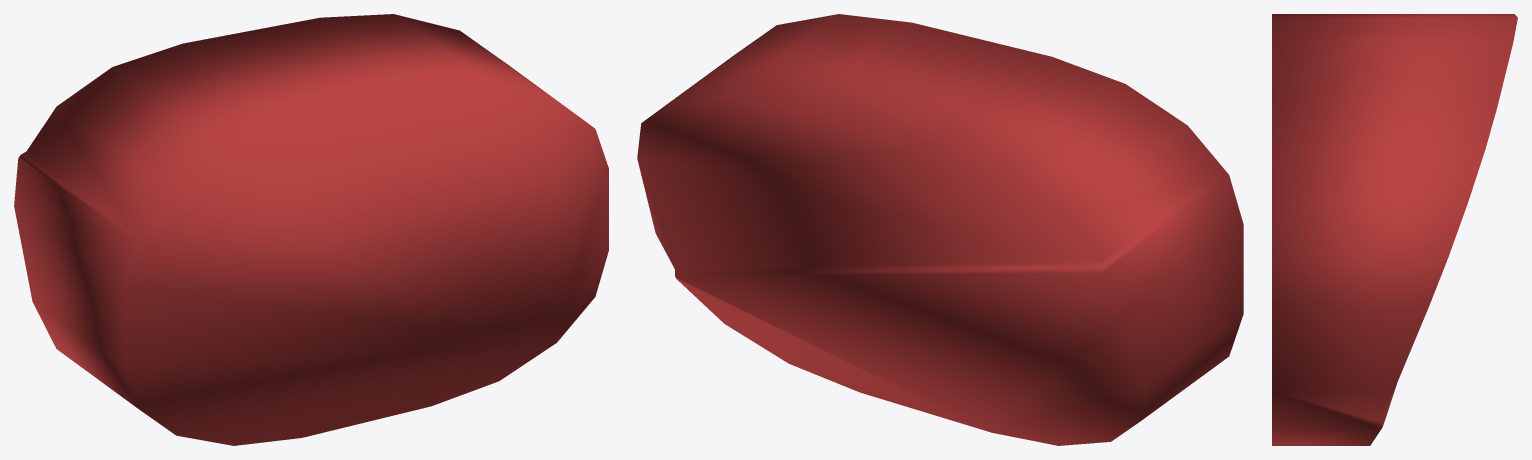
Rendered from Comms.fbx.
3 views of the same model, side by side, from view 1: azimuth 30°, elevation 25°; view 2: azimuth 150°, elevation 25°; view 3: azimuth 270°, elevation 25° (orthographic). The views are drawn at different scales.
Visible parts, largest first — view 1: Comms; view 2: Comms; view 3: Comms.
Part boxes in pixels (x1,y1,x2,y2): Comms: (14, 14, 608, 445); Comms: (637, 14, 1243, 445); Comms: (1272, 14, 1517, 445).
Bounding box in the file's own units: 1.33 × 0.8079 × 0.5797.
